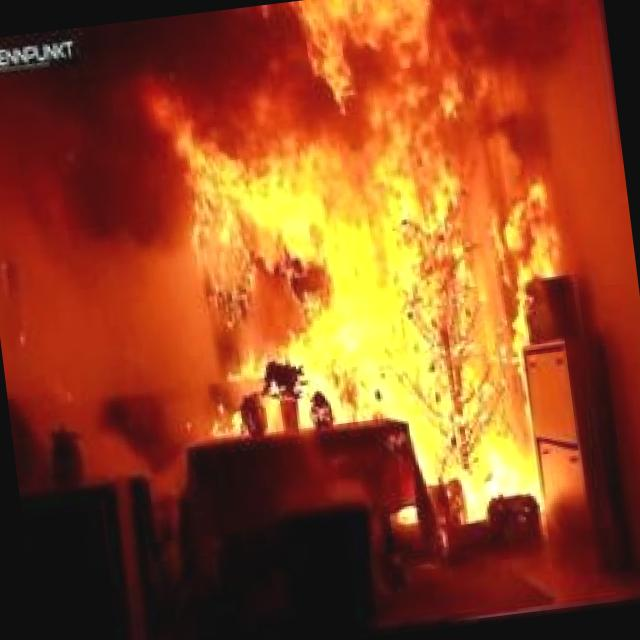fire: (51, 0, 624, 595)
